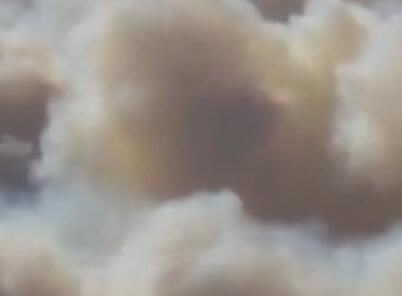yanwu: (1, 1, 402, 293)
